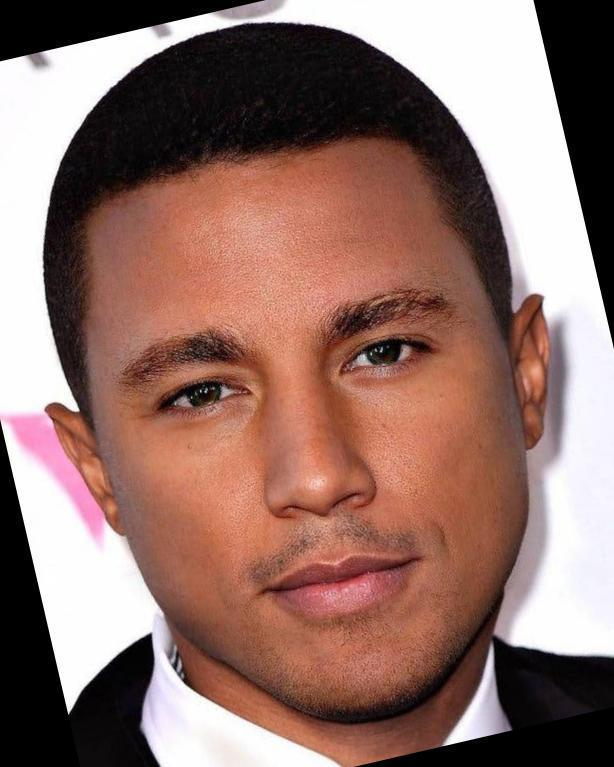Sober: (107, 195, 523, 675)
